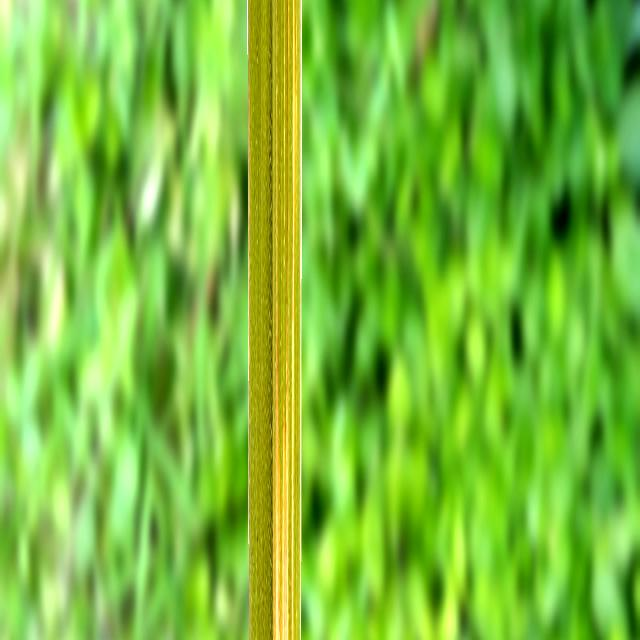BLS: (273, 0, 289, 640), (292, 0, 298, 640)
